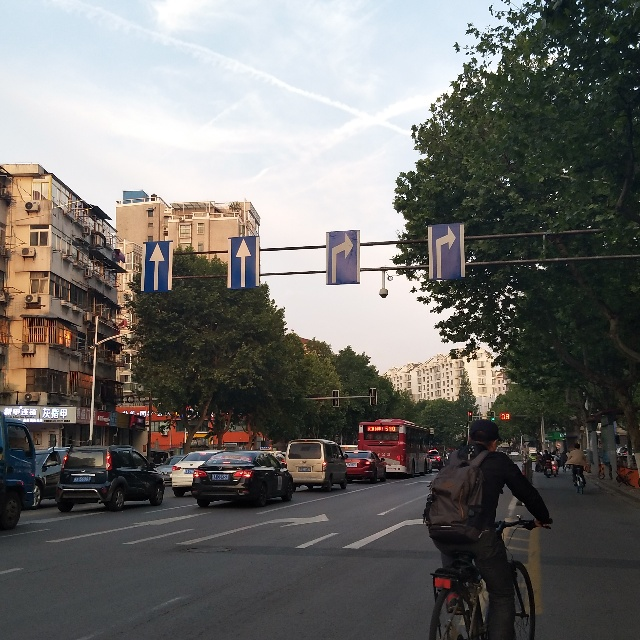right: (432, 224, 464, 279), (330, 235, 360, 281)
straight: (229, 237, 258, 288), (143, 241, 170, 291)
